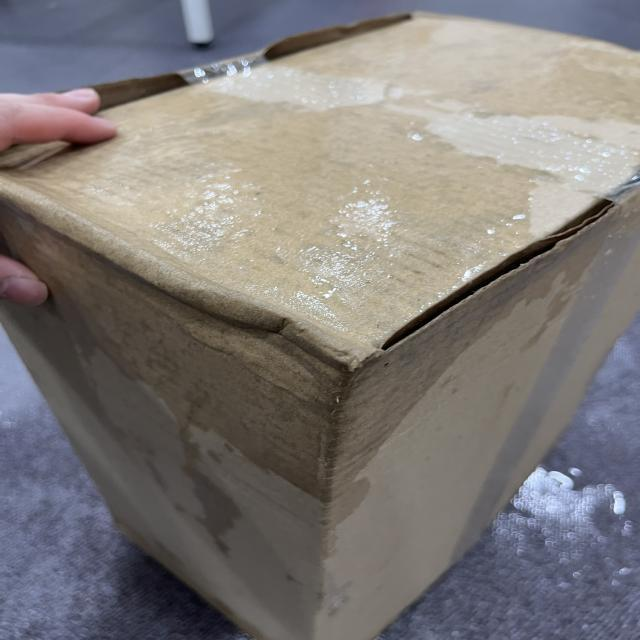wet: (70, 14, 640, 500)
